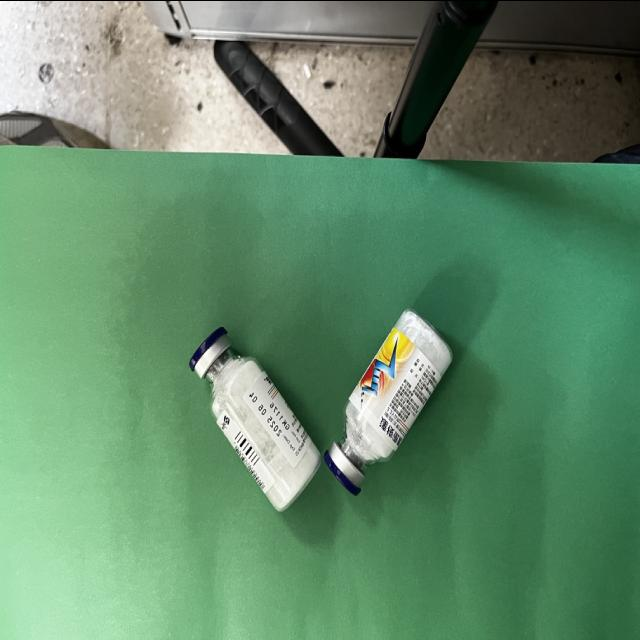Vials: (190, 325, 324, 511), (324, 309, 454, 495)
